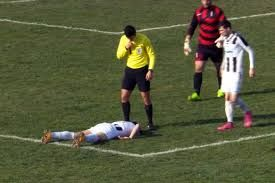fall: (38, 112, 145, 149)
